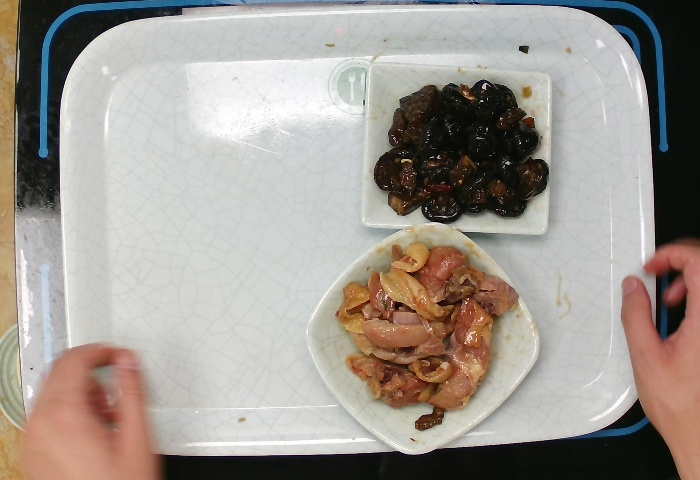WCQzf-Da_Si_Fang_Die: (298, 218, 544, 453)
WCQzf-Ru_Ci_Si_Fang_Die: (352, 53, 559, 240)
